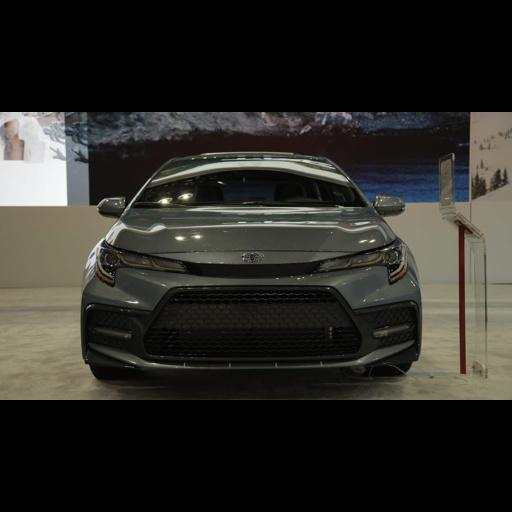hatchback: (80, 153, 421, 378)
